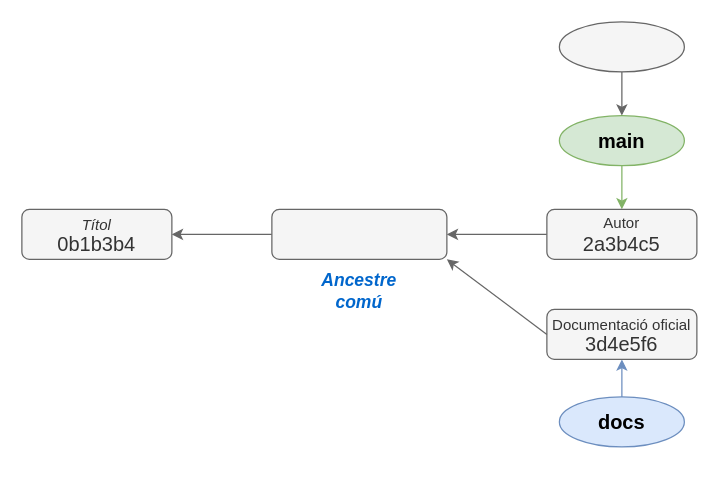
Image size: 719x479. Some labels were removed from this diagram. Each missing label, with the centre of its shape:
HEAD: (x=621, y=46)
Subtítol documentació 1b2c5d6: (x=359, y=233)
